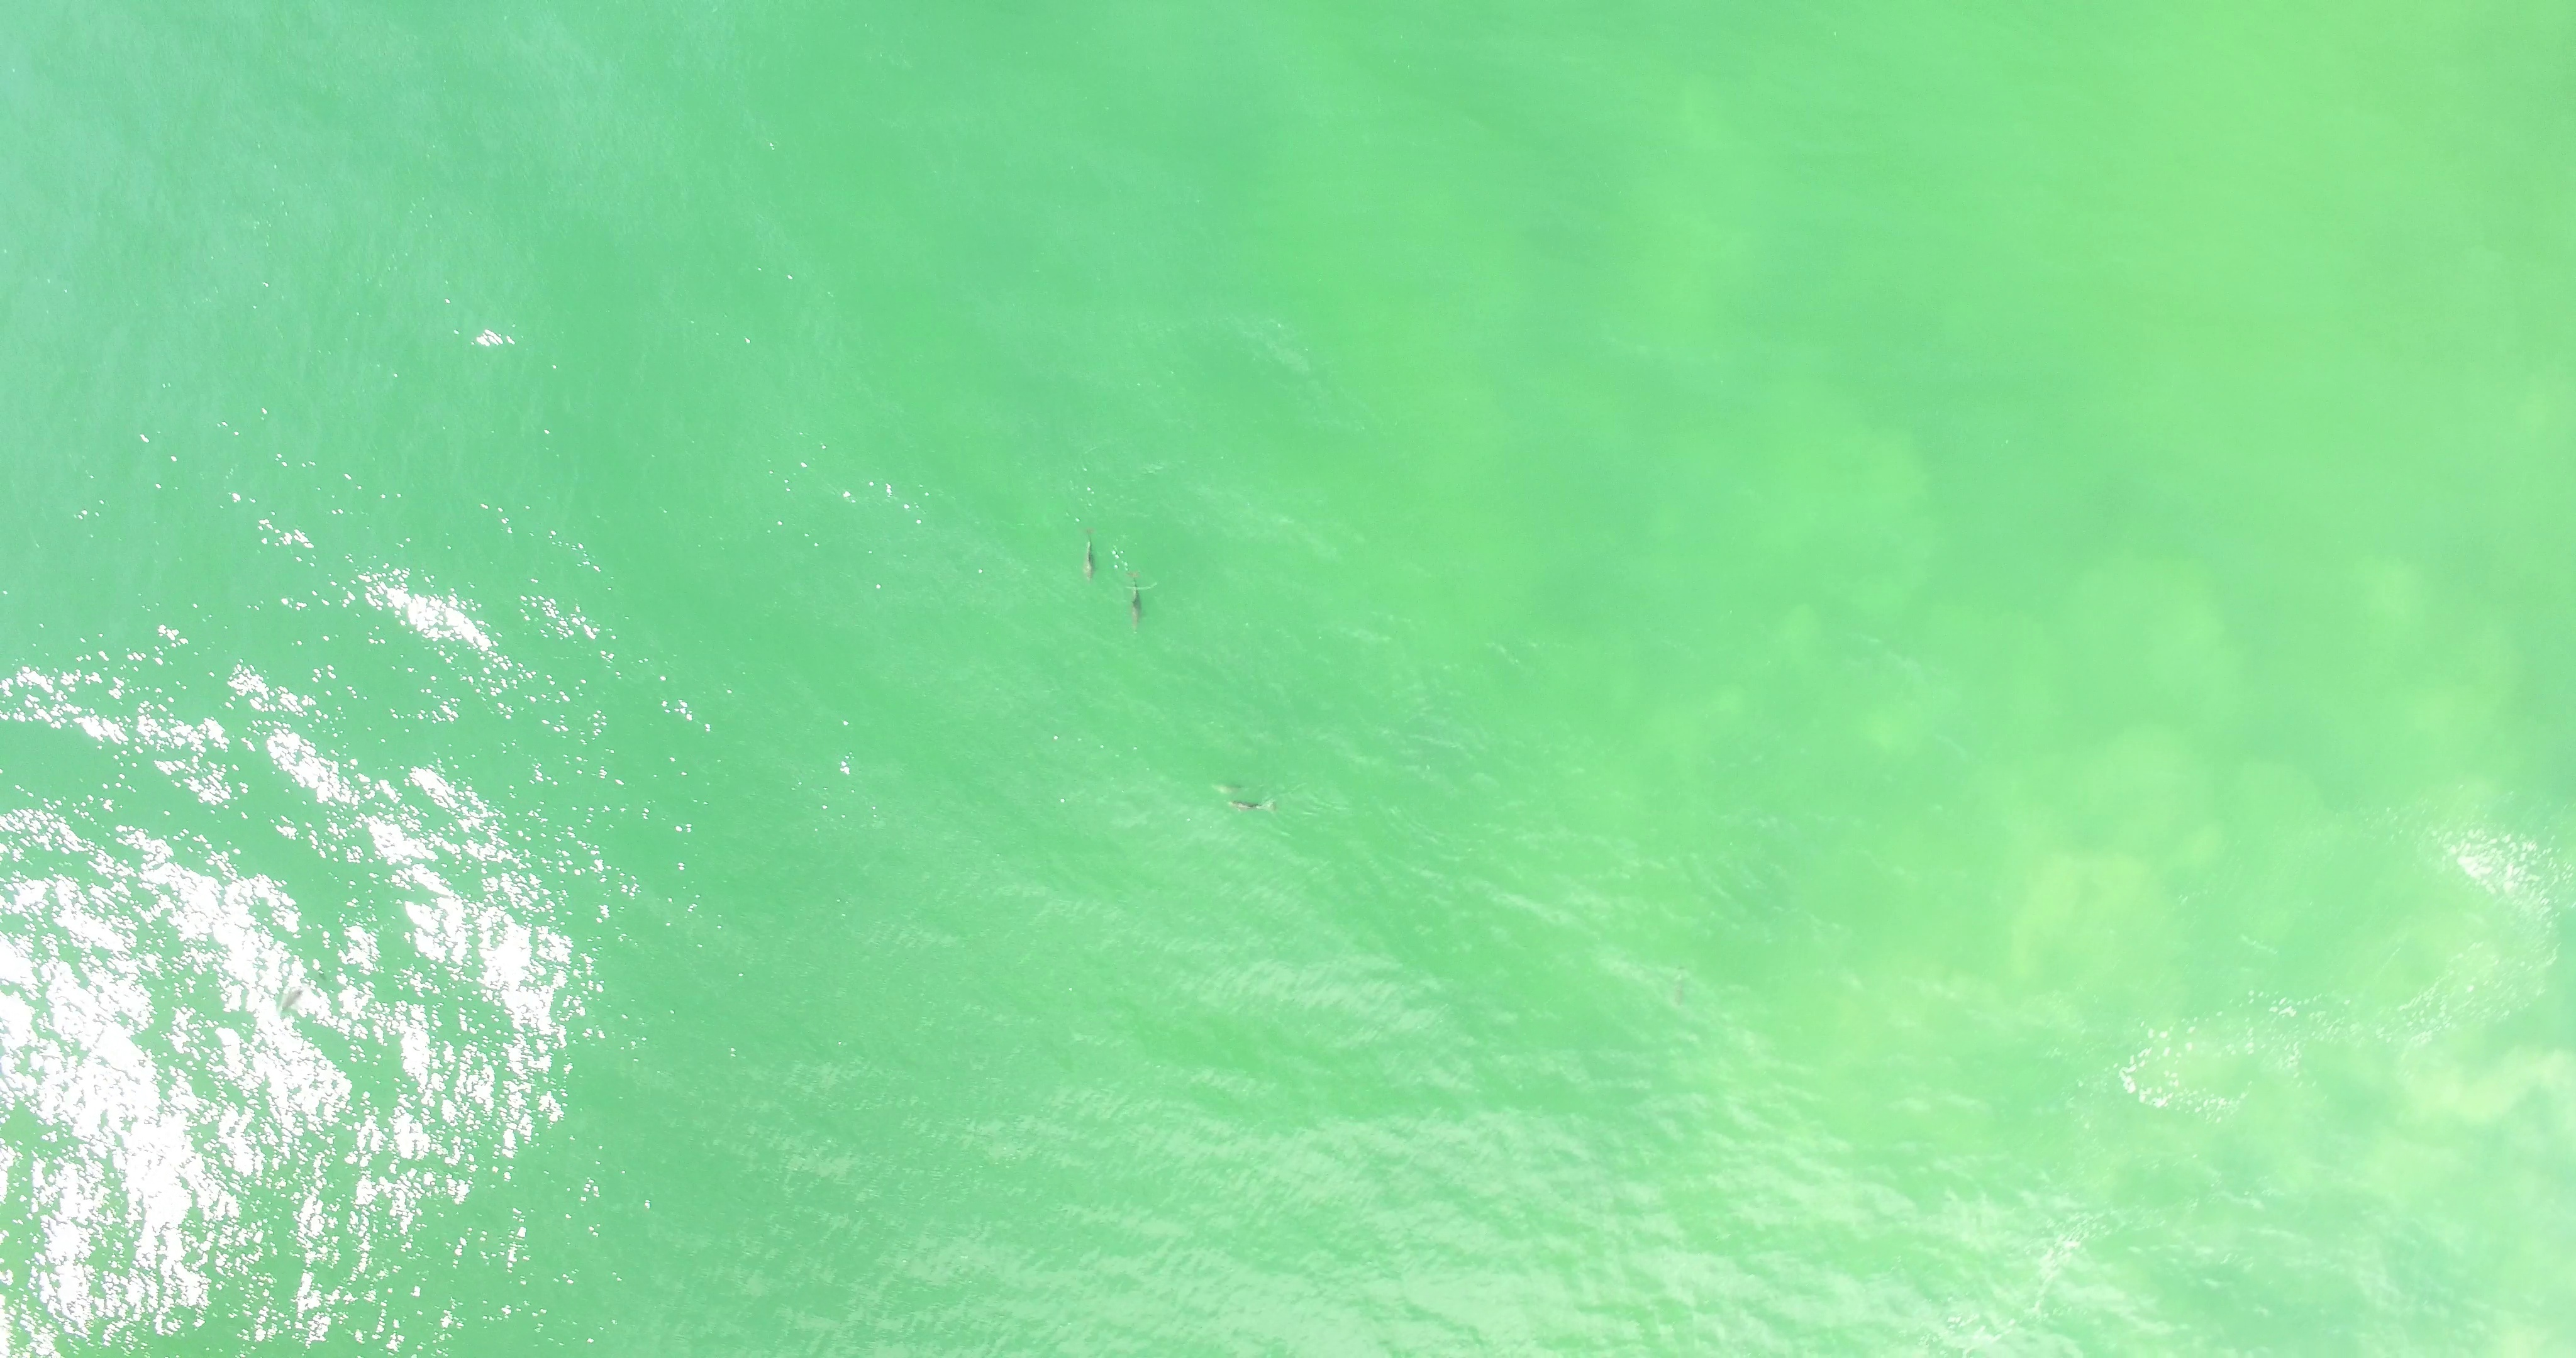dolphin: (281, 968, 329, 1012), (1126, 569, 1150, 634), (1225, 794, 1281, 818), (1078, 523, 1099, 583), (1673, 959, 1692, 1012), (1211, 779, 1259, 794)
